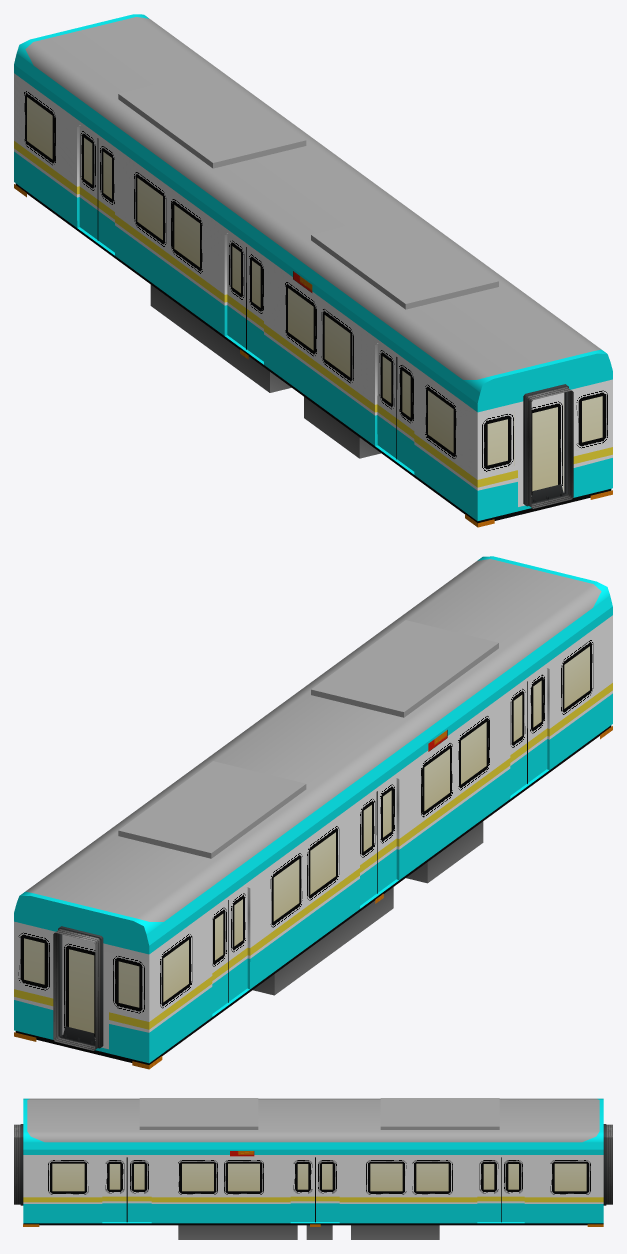
3 renders of one model, top to bottom at view 1: azimuth 30°, elevation 25°; view 2: azimuth 150°, elevation 25°; view 3: azimuth 270°, elevation 25°, orthographic. The views are drawn at different scales.
Parts seen in each view (by area): view 1: K; view 2: K; view 3: K.
Boxes of the visible parts, bbox=[...] form: K: bbox=[14, 14, 612, 527]; K: bbox=[14, 556, 612, 1069]; K: bbox=[14, 1098, 612, 1239].
Size of the model in its own units: 6.09 by 7.41 by 37.01.
11 materials, 11 textured.
